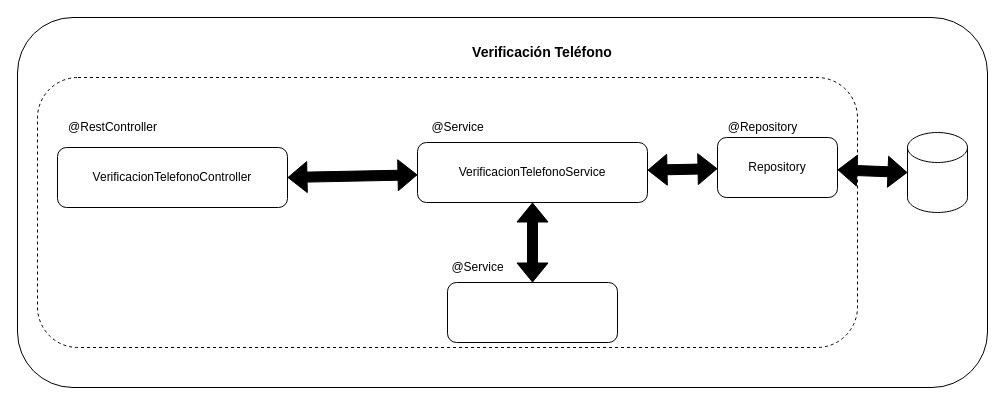
This 1005x405 diagram has some shape labels left out. The shapes that lost their labels are listed below. From the top down, each one's centre as x and y in pixels, then its label:
point (937, 172): PlacesDB
point (532, 312): SmsService
